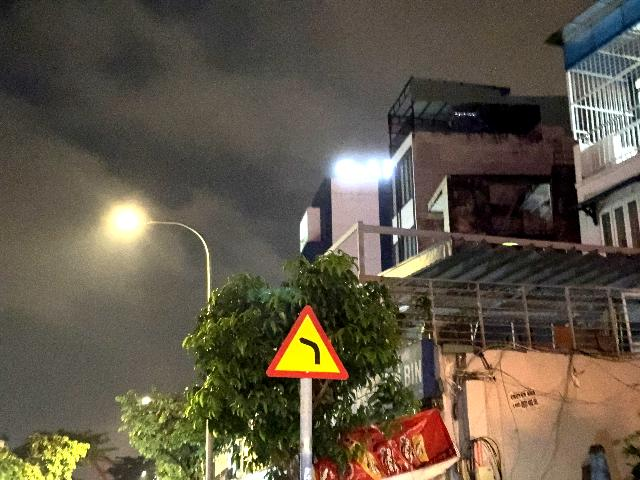cho-ngoat-nguy-hiem-ben-trai: (265, 304, 349, 381)
